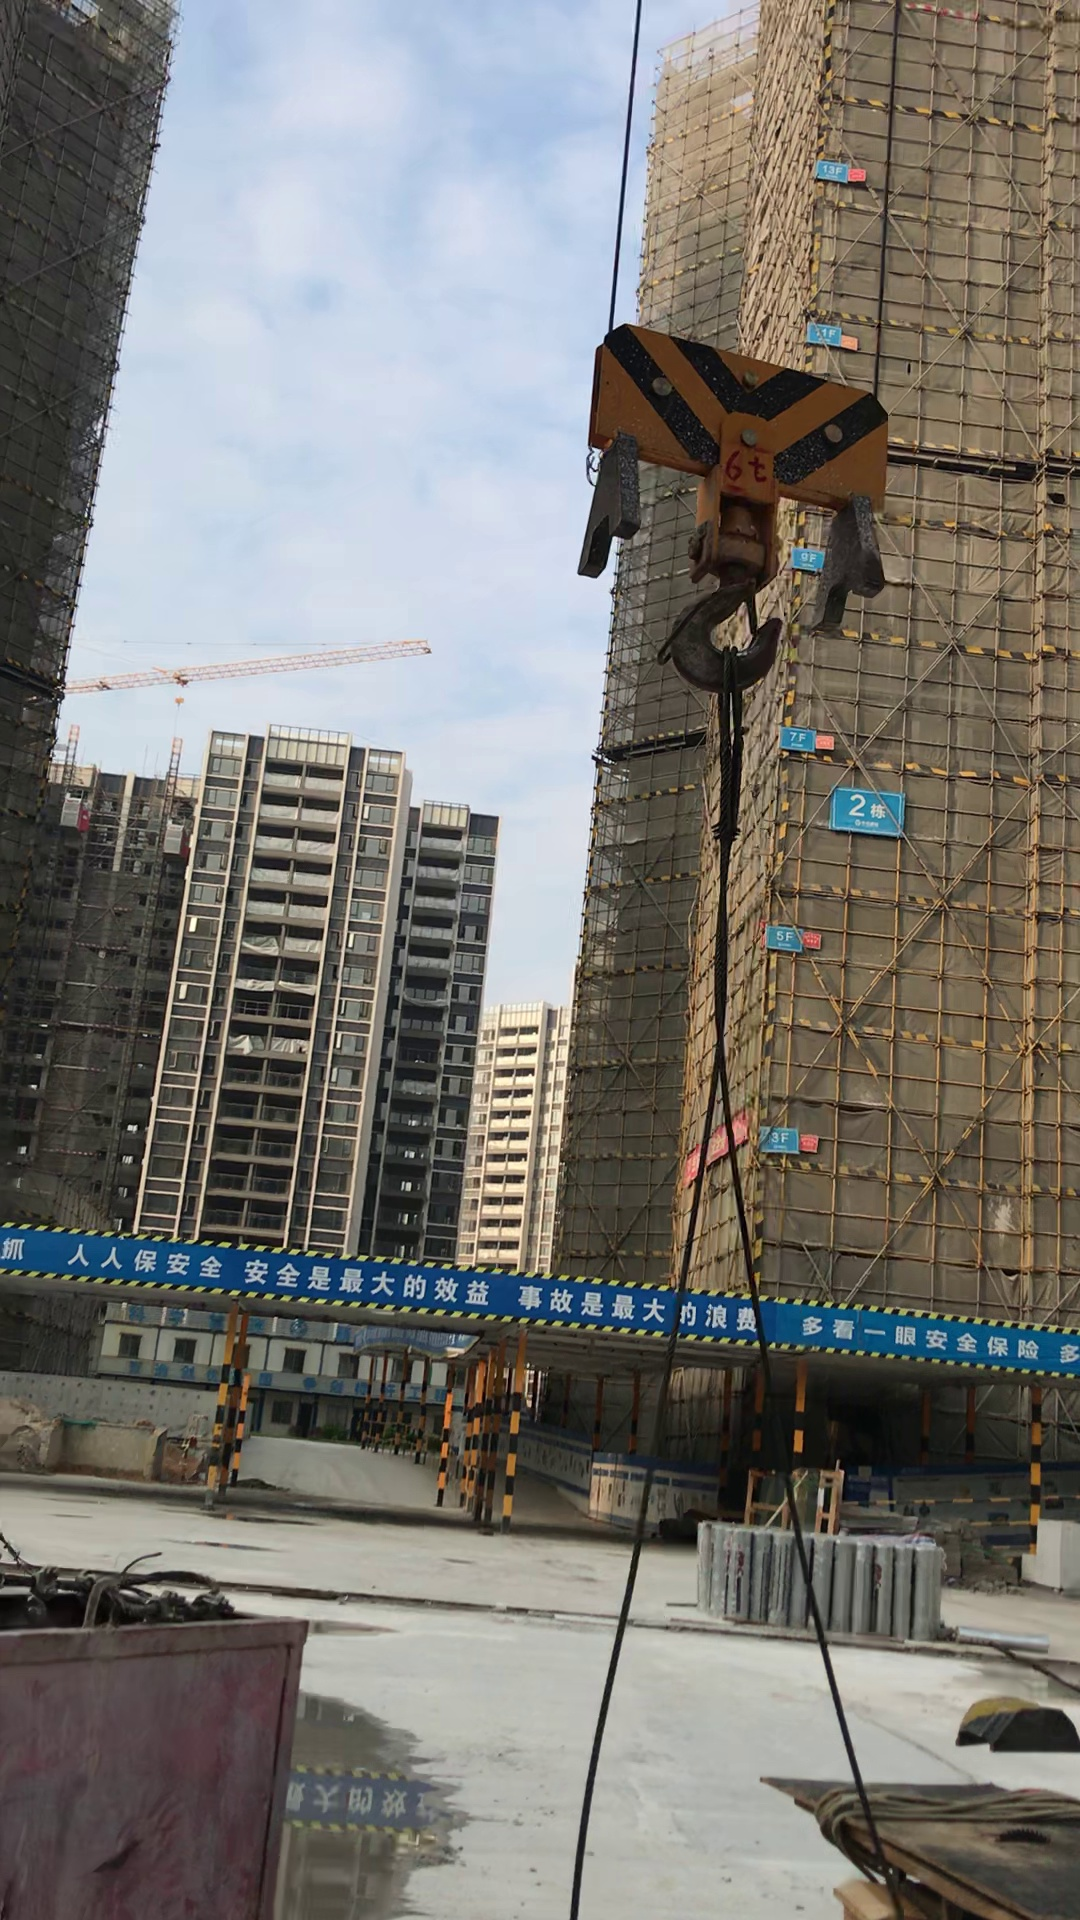brick: (1017, 1503, 1077, 1601)
cutter: (781, 1751, 1079, 1913)
hook: (545, 258, 914, 678)
hopper: (1, 1538, 339, 1913)
slogan: (5, 1226, 1077, 1365)
